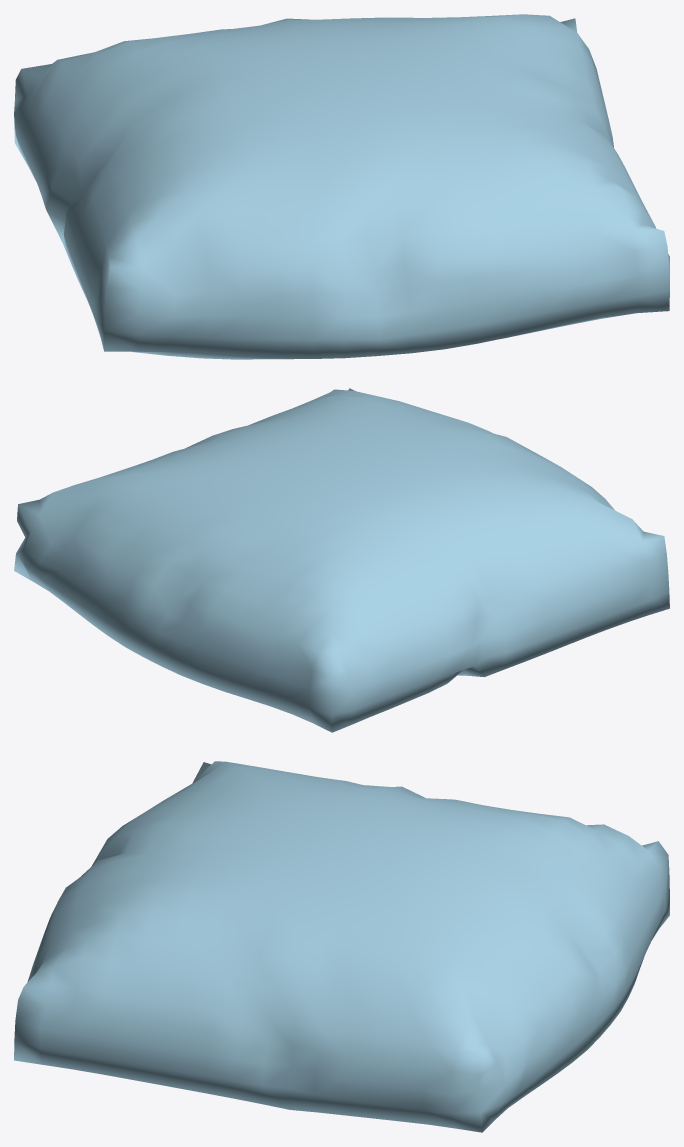
Rendered from bedpillow.glb.
3 renders of one model, top to bottom at view 1: azimuth 30°, elevation 25°; view 2: azimuth 150°, elevation 25°; view 3: azimuth 270°, elevation 25°, orthographic. The views are drawn at different scales.
Visible parts, largest first — view 1: Cube.031; view 2: Cube.031; view 3: Cube.031.
Part boxes in pixels (x1,y1,x2,y2): Cube.031: [14, 14, 669, 359]; Cube.031: [14, 388, 669, 732]; Cube.031: [14, 761, 669, 1132].
Size of the model in its own units: 0.622 by 0.1742 by 0.5905.
